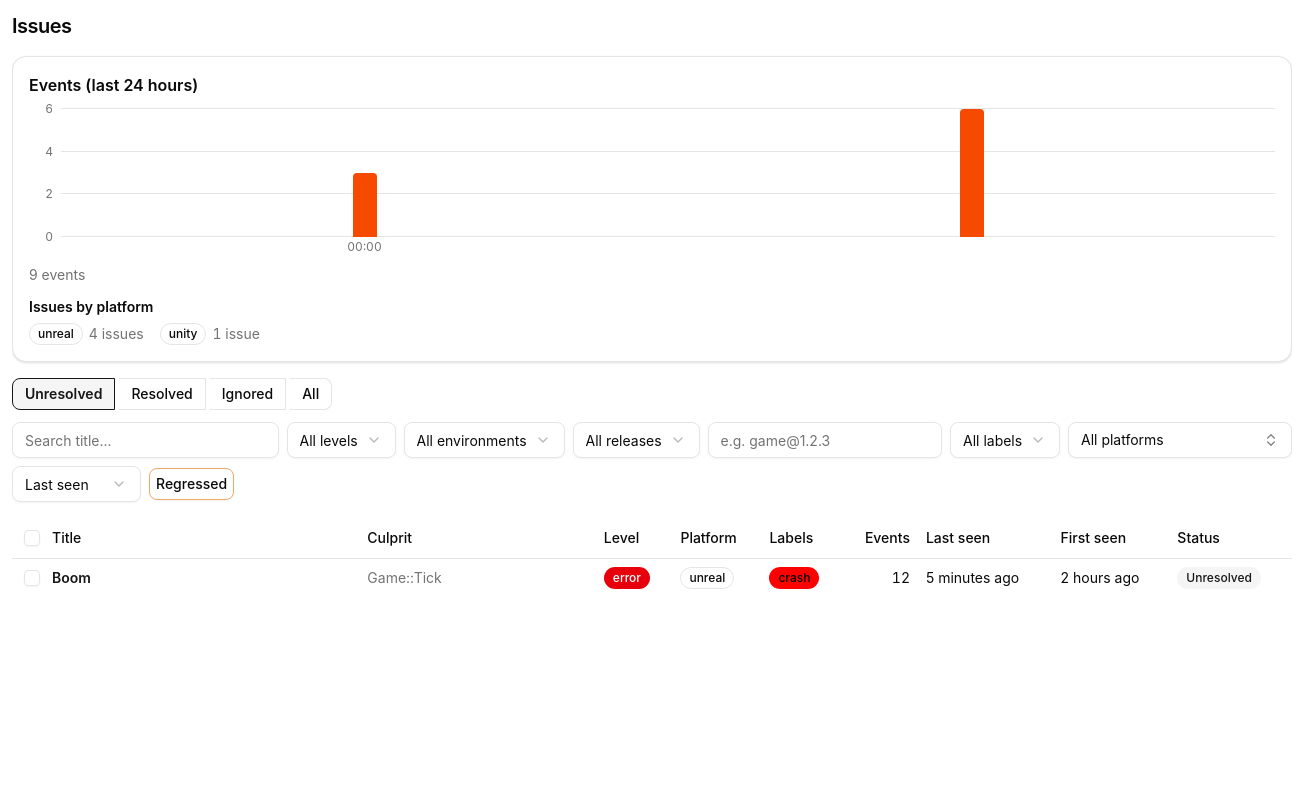
Test: IssuesPage › renders a bulk error inline and keeps the selection
The image size is (1304, 812).
Expected: the link "Boom" is shown, [52,568,91,586]
Click the checkbox named "Select issue 1".
click(32, 578)  # box [24,570,40,586]
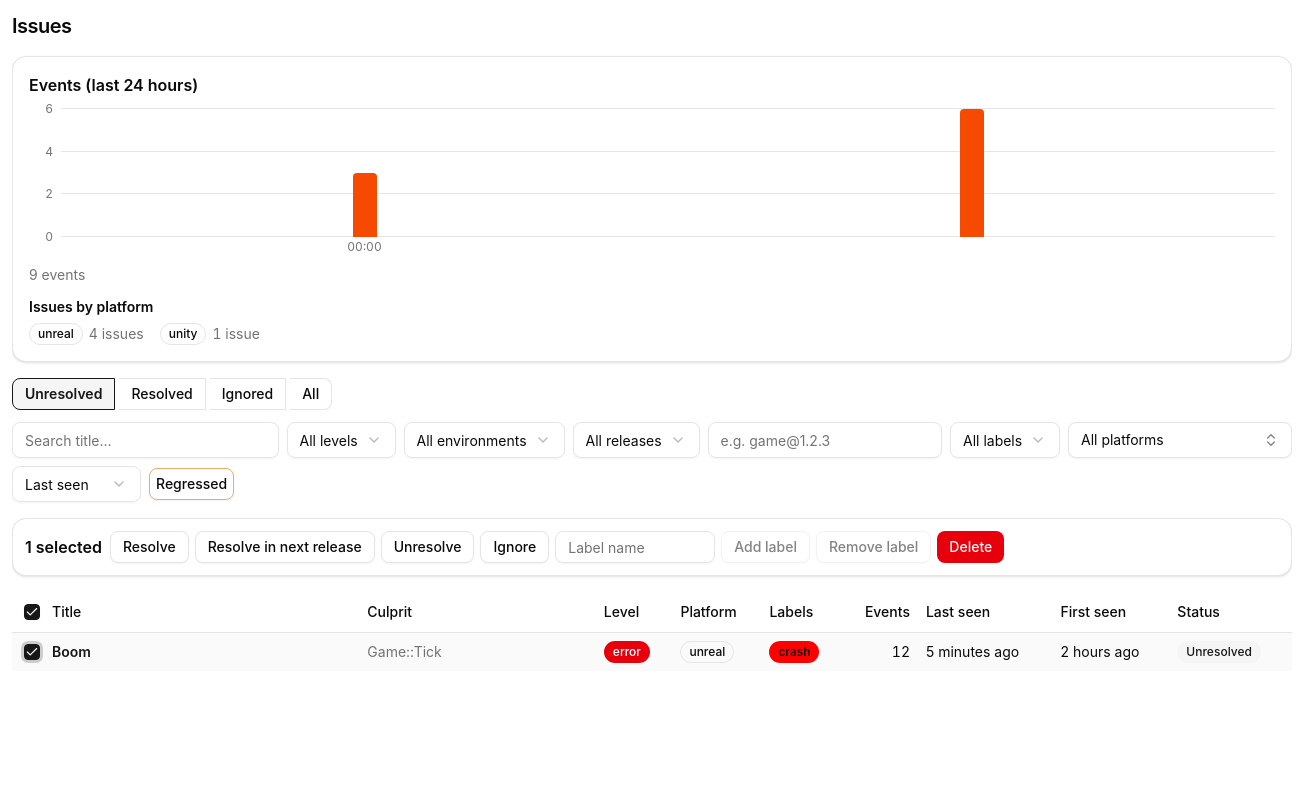
Click the button "Ignore".
click(515, 547)  # box [480,531,549,563]
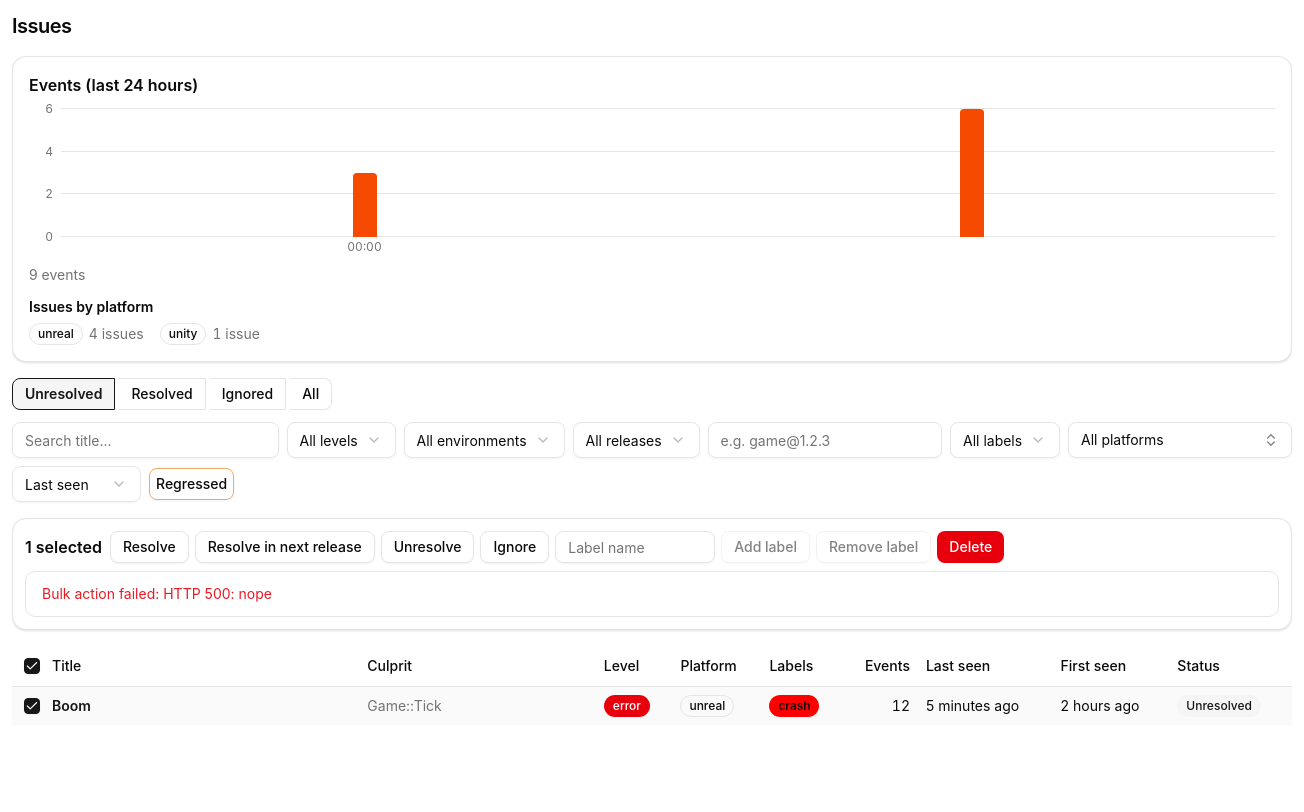
Expected: the text "1 selected" is shown, [25,535,102,559]
Expected: the text "Bulk action failed: HTTP 500: nope" is shown, [42,585,272,602]
